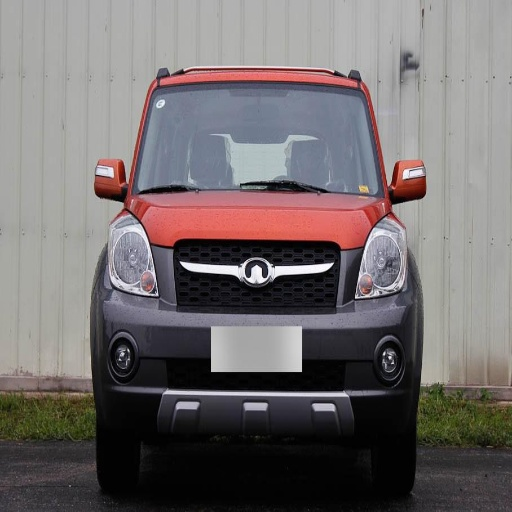front_bumper: (96, 245, 417, 439)
front_right_light: (107, 217, 160, 297)
hood: (127, 192, 386, 247)
left_mirror: (390, 162, 426, 204)
